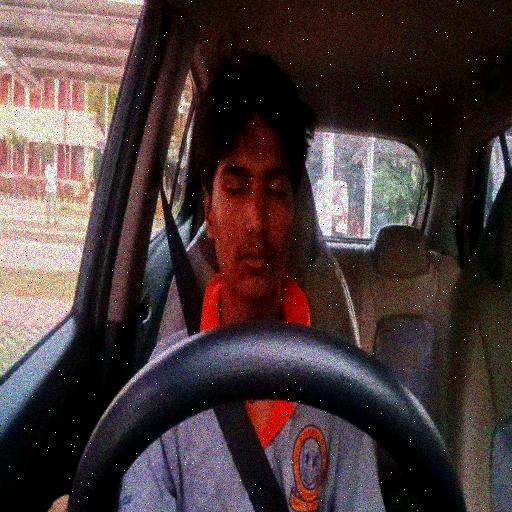sleepy: (191, 56, 306, 302)
